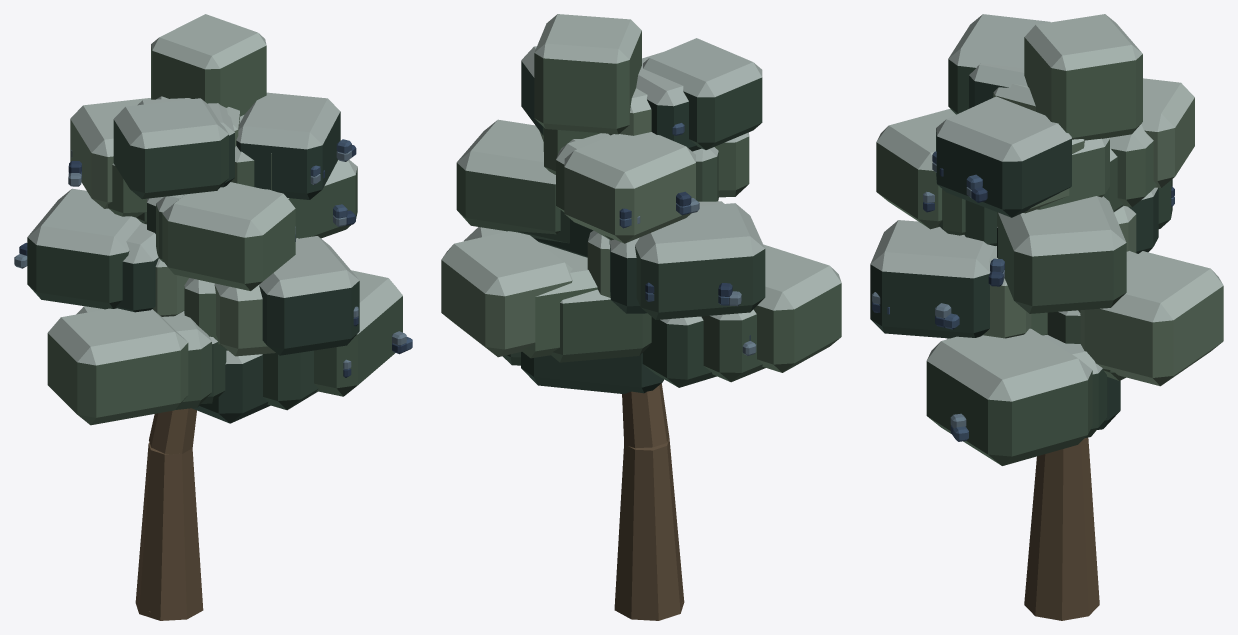
The model's file is juniper_ancient_winter_2.glb.
The picture shows the model from 3 angles, left to right: view 1: azimuth 30°, elevation 25°; view 2: azimuth 150°, elevation 25°; view 3: azimuth 270°, elevation 25°; orthographic projection. The views are drawn at different scales.
Parts seen in each view (by area): view 1: juniper_ancient_winter_2; view 2: juniper_ancient_winter_2; view 3: juniper_ancient_winter_2.
Part boxes in pixels (x1,y1,x2,y2): juniper_ancient_winter_2: (14,14,412,620); juniper_ancient_winter_2: (441,14,841,620); juniper_ancient_winter_2: (870,14,1223,620).
Bounding box in the file's own units: 10.38 × 16 × 8.6.
